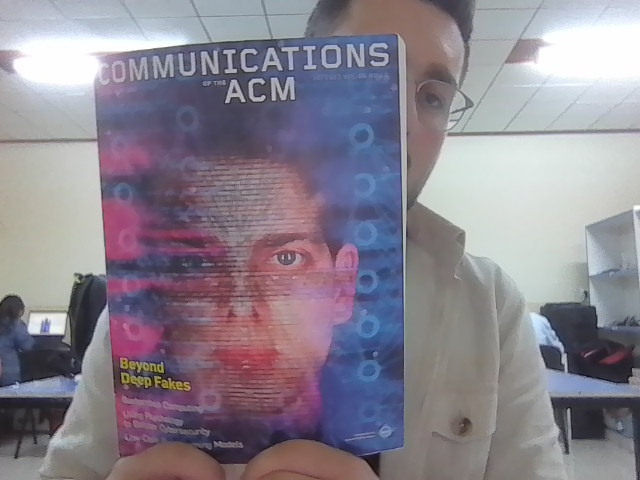Sayisal: (88, 34, 407, 478)
